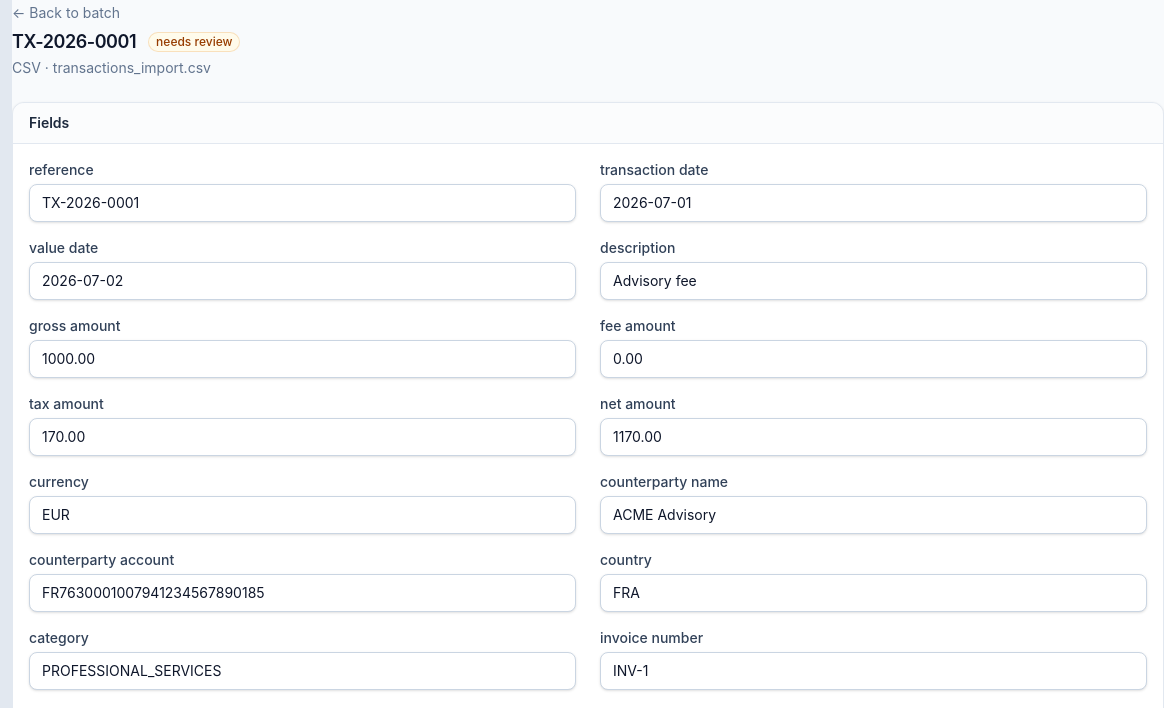
Test: correcting a record › saving is offered only once something has changed
Replace the text in the field labelled "country" with "FR" at {"x": 874, "y": 593}, box [600,574,1147,612]
(page scrolled)
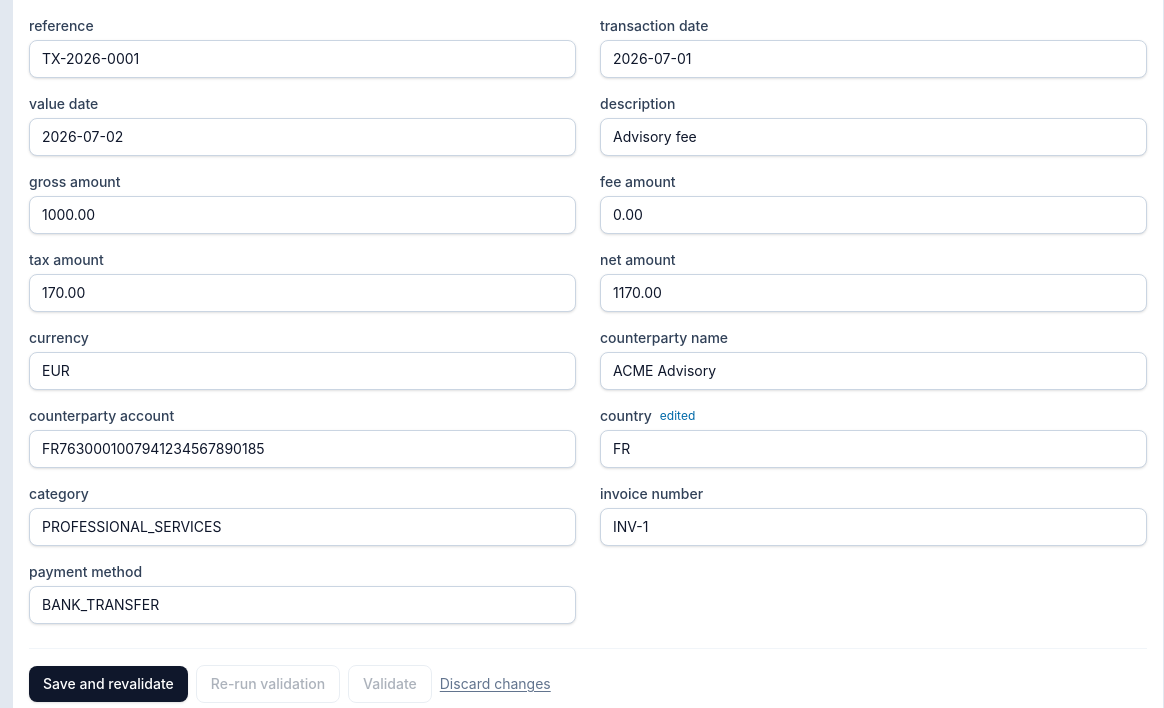
Result: the button "Save and revalidate" is enabled at [29,666,188,702]
